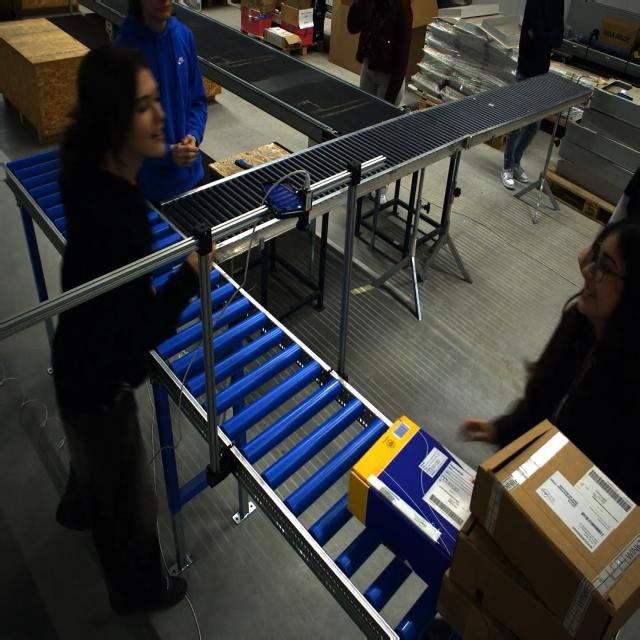box: (436, 426, 640, 637), (357, 424, 469, 585)
